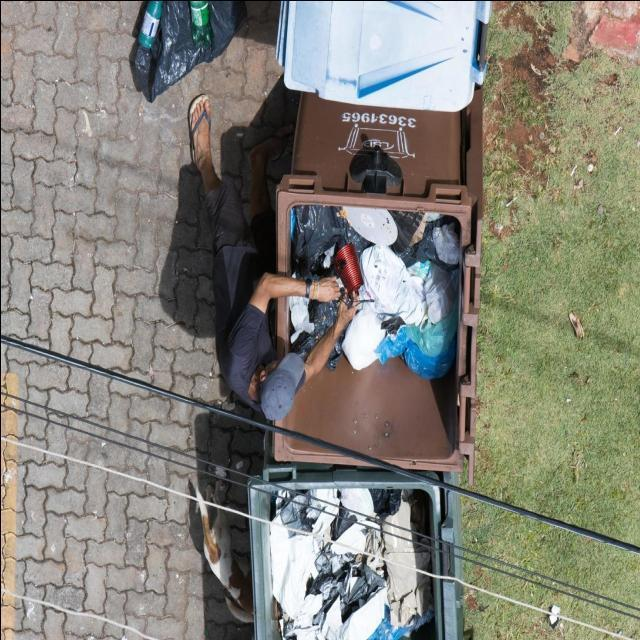Garbage: (291, 204, 459, 378), (269, 488, 432, 640), (289, 295, 339, 355)
Plastic: (381, 492, 431, 625), (367, 605, 432, 640), (332, 242, 362, 295), (330, 505, 356, 541), (368, 488, 401, 516)
Plastic_Bag: (291, 204, 368, 278), (360, 243, 426, 323), (374, 327, 455, 378), (398, 216, 459, 271), (404, 296, 456, 355), (341, 302, 384, 368), (291, 299, 338, 357), (422, 263, 458, 323), (344, 205, 396, 244), (288, 295, 314, 342), (431, 222, 459, 263), (325, 330, 344, 370)
Plastic_bottle: (189, 0, 211, 48)
